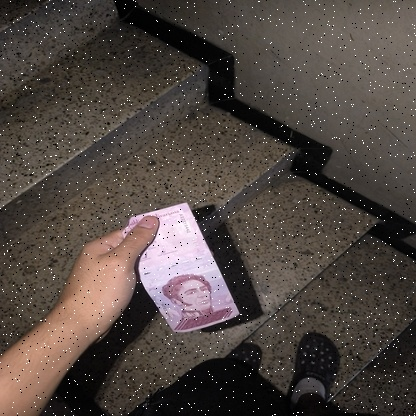one_hundred-front-vef: (121, 202, 240, 335)
